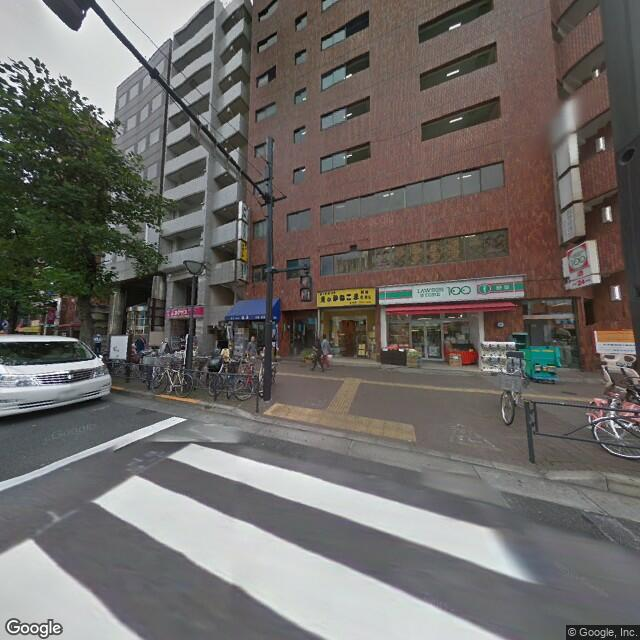lawson: (377, 276, 525, 309)
